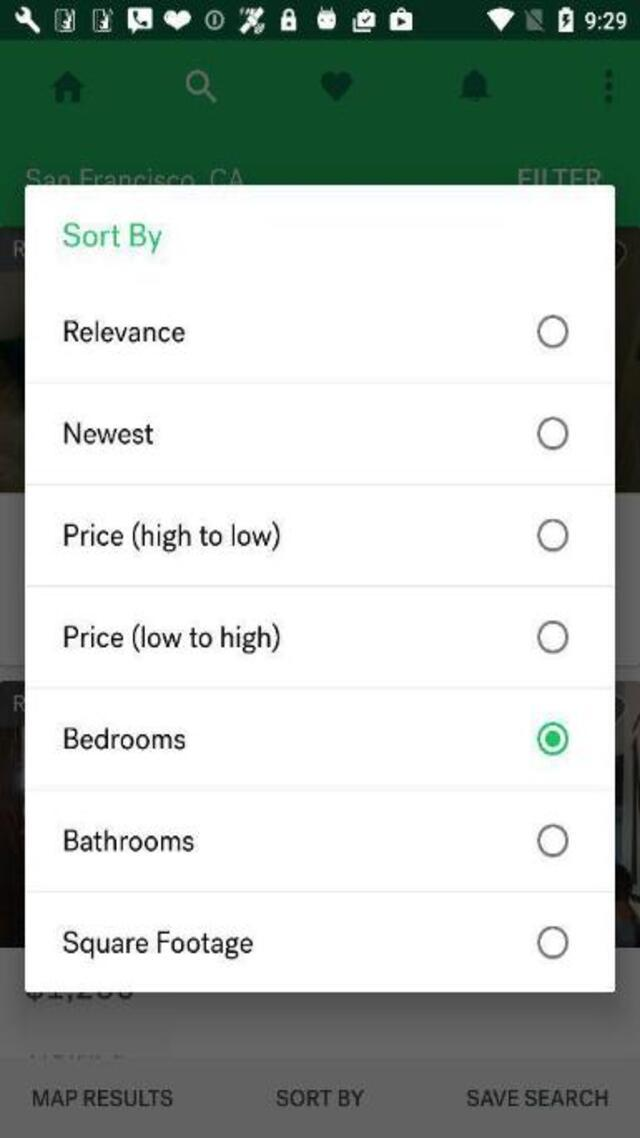CheckedTextView: (64, 417, 568, 451), (64, 518, 568, 552), (64, 721, 568, 755), (64, 926, 568, 960), (64, 620, 568, 653), (64, 314, 568, 346), (64, 824, 568, 856)
Text: (64, 520, 278, 550), (64, 624, 278, 653), (63, 930, 253, 958), (62, 224, 160, 253), (63, 829, 193, 850), (465, 1088, 606, 1106), (64, 320, 184, 341), (33, 1088, 173, 1106), (64, 728, 184, 748), (63, 421, 153, 442), (275, 1088, 363, 1106)
